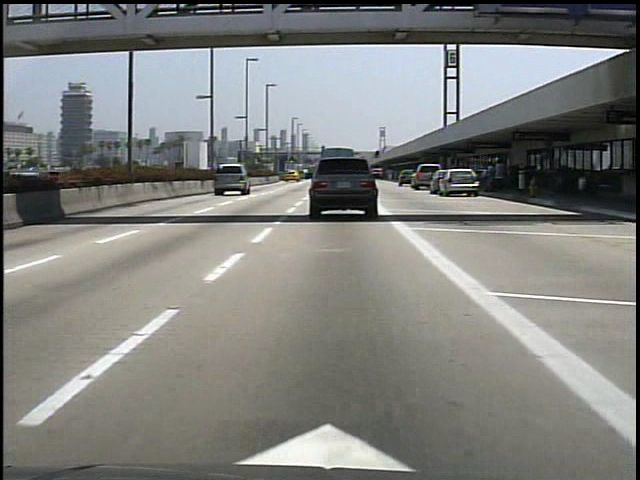person: (491, 155, 511, 194), (480, 161, 495, 194)
